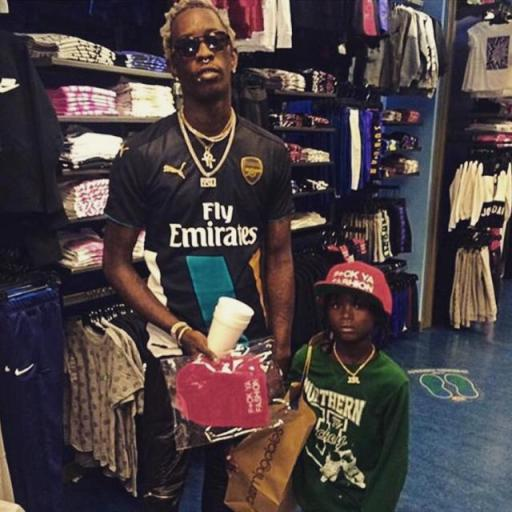Emirates: (165, 199, 260, 250)
